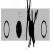correct: (16, 18, 22, 40)
no answer: (40, 19, 47, 40)
not correct: (26, 0, 38, 50)
